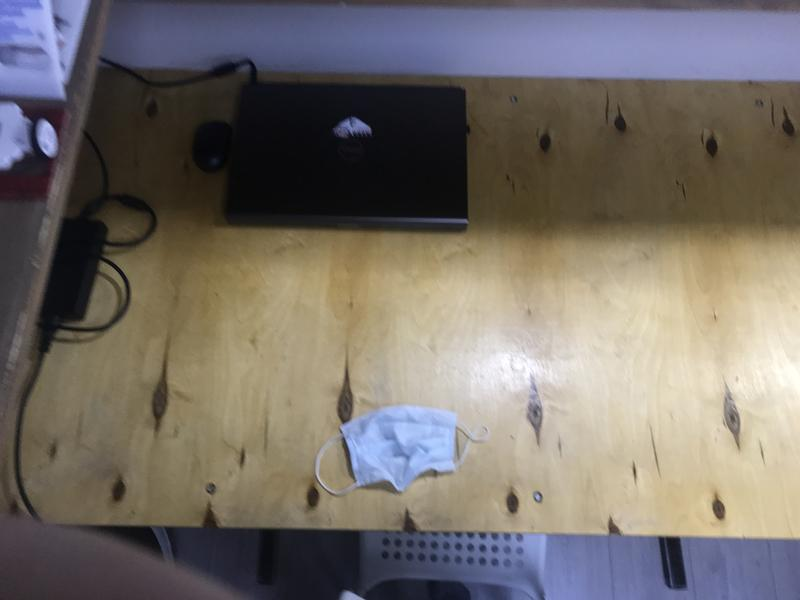medical_mask: (313, 405, 488, 497)
